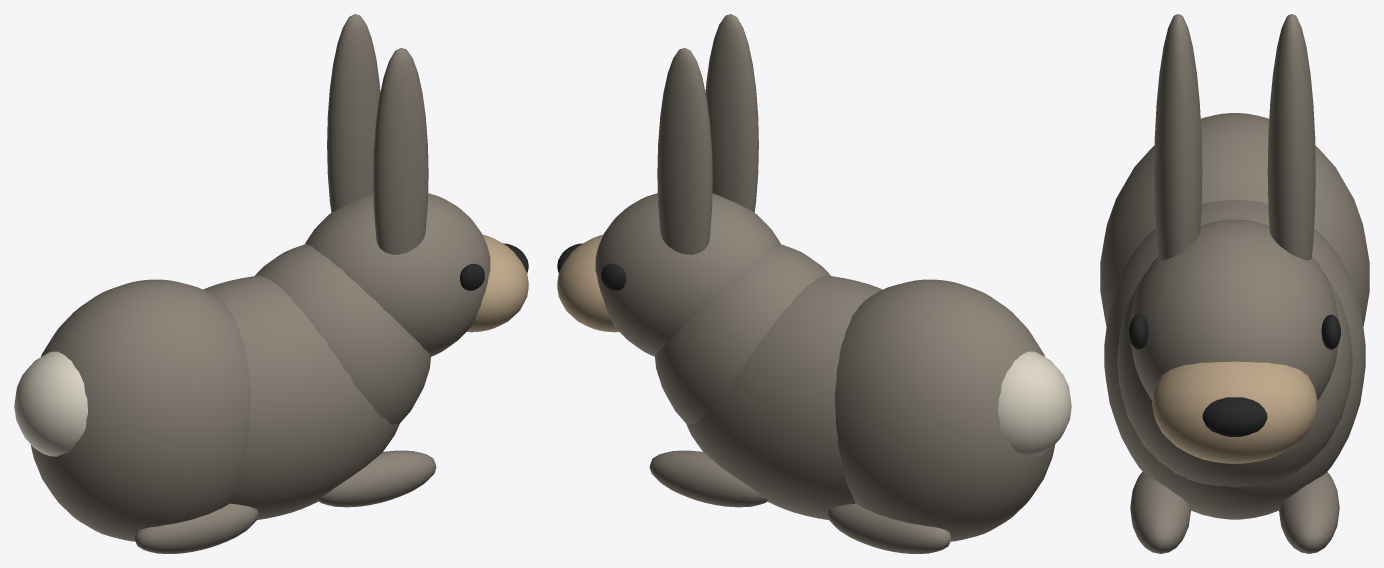
Rendered from rabbit_aaa_v2.glb.
3 renders of one model, left to right at view 1: azimuth 30°, elevation 25°; view 2: azimuth 150°, elevation 25°; view 3: azimuth 270°, elevation 25°, orthographic. The views are drawn at different scales.
Visible parts, largest first — view 1: Haunch, Body, Head, Chest, Rabbit_Ear-1, Rabbit_Ear1, Tail, Rabbit_Paw2, Rabbit_Paw0, Muzzle; view 2: Haunch, Body, Head, Chest, Rabbit_Ear1, Rabbit_Ear-1, Tail, Rabbit_Paw3, Rabbit_Paw1, Muzzle; view 3: Head, Haunch, Body, Muzzle, Rabbit_Ear-1, Rabbit_Ear1, Chest, Rabbit_Paw2, Rabbit_Paw3, Nose, Eye.001, Eye.
Part boxes in pixels (x1,y1,x2,y2): Haunch: (30, 279, 251, 541); Body: (203, 275, 399, 519); Head: (305, 193, 490, 356); Chest: (255, 244, 430, 424); Rabbit_Ear-1: (373, 48, 428, 254); Rabbit_Ear1: (327, 14, 380, 212); Tail: (14, 351, 87, 456); Rabbit_Paw2: (318, 450, 436, 507); Rabbit_Paw0: (134, 503, 258, 553); Muzzle: (467, 235, 528, 332); Haunch: (834, 279, 1055, 541); Body: (686, 275, 882, 519); Head: (595, 193, 780, 356); Chest: (655, 244, 830, 424); Rabbit_Ear1: (657, 48, 712, 254); Rabbit_Ear-1: (705, 14, 758, 212); Tail: (998, 351, 1071, 456); Rabbit_Paw3: (649, 450, 767, 507); Rabbit_Paw1: (827, 503, 951, 553); Muzzle: (557, 235, 618, 332); Head: (1131, 219, 1338, 400); Haunch: (1100, 113, 1369, 326); Body: (1104, 200, 1365, 519); Muzzle: (1152, 361, 1317, 463); Rabbit_Ear-1: (1154, 14, 1202, 260); Rabbit_Ear1: (1267, 14, 1315, 260); Chest: (1117, 273, 1352, 487); Rabbit_Paw2: (1130, 472, 1191, 553); Rabbit_Paw3: (1278, 472, 1339, 553); Nose: (1202, 397, 1267, 436); Eye.001: (1129, 314, 1148, 349); Eye: (1321, 314, 1340, 349).
Bounding box in the file's own units: 1.63 × 1.4 × 0.6174.
